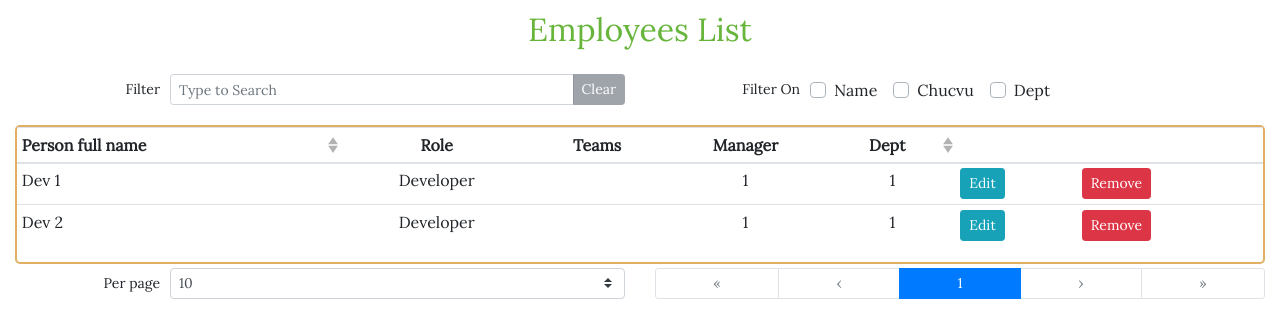
Test: Employee unit tests: › Test filter › Test clear button
Type "Dev 1" into the search field with id "filter-input". click: (372, 90)
box: [170,74,574,105]
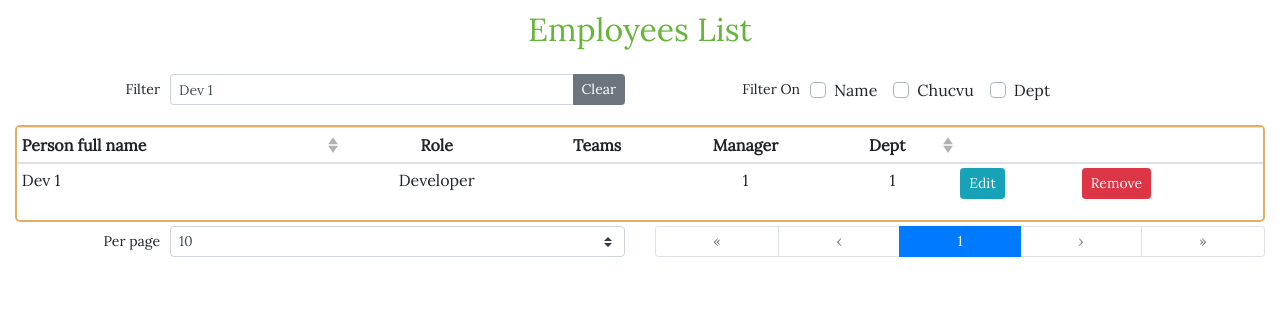
Click the button "Clear". click: (599, 90)
box: [572,74,625,105]
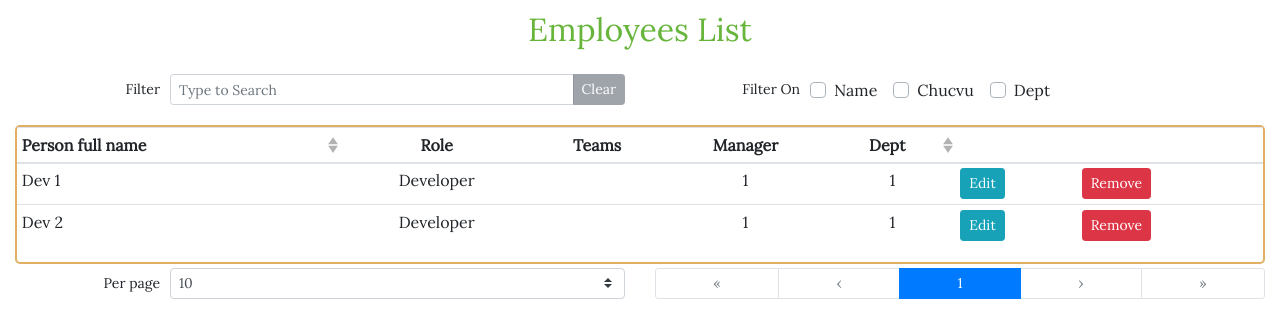
Check: the table shows "Dev 1", box [22,170,60,190]
Check: the table shows "Dev 2", box [22,212,63,232]
